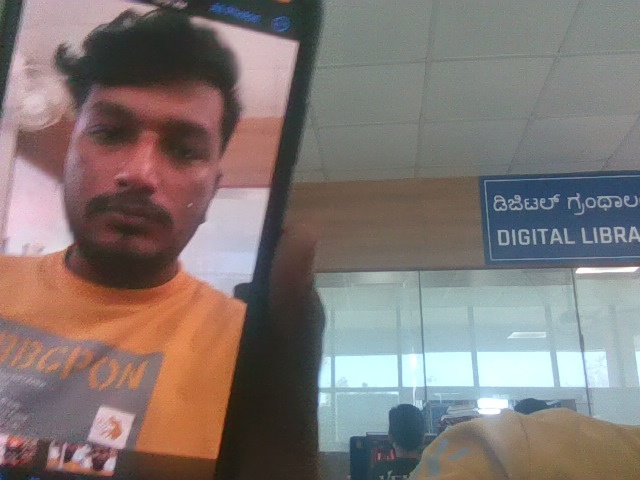fake: (36, 0, 250, 304)
